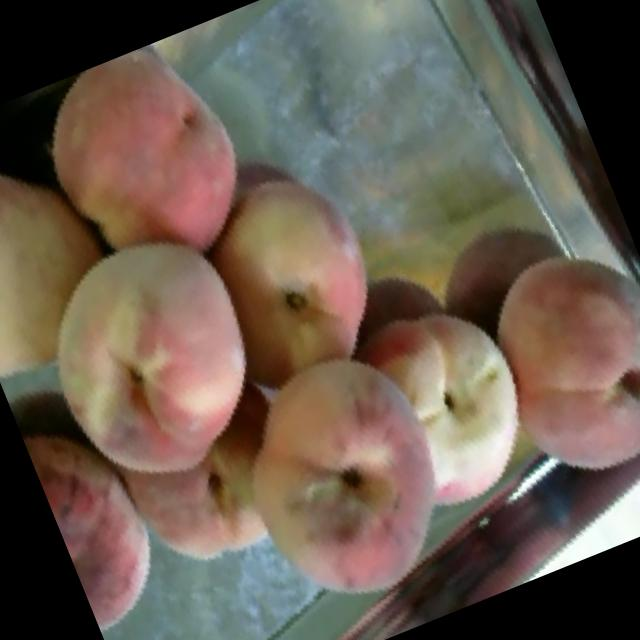Fruit: (168, 281, 526, 640), (0, 170, 329, 550), (17, 22, 296, 324), (166, 131, 434, 434), (416, 200, 640, 541), (12, 367, 220, 640)
